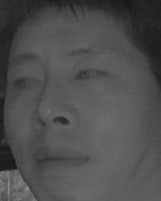eye: (73, 65, 111, 85), (11, 73, 42, 93)
mouth: (32, 143, 88, 174)
